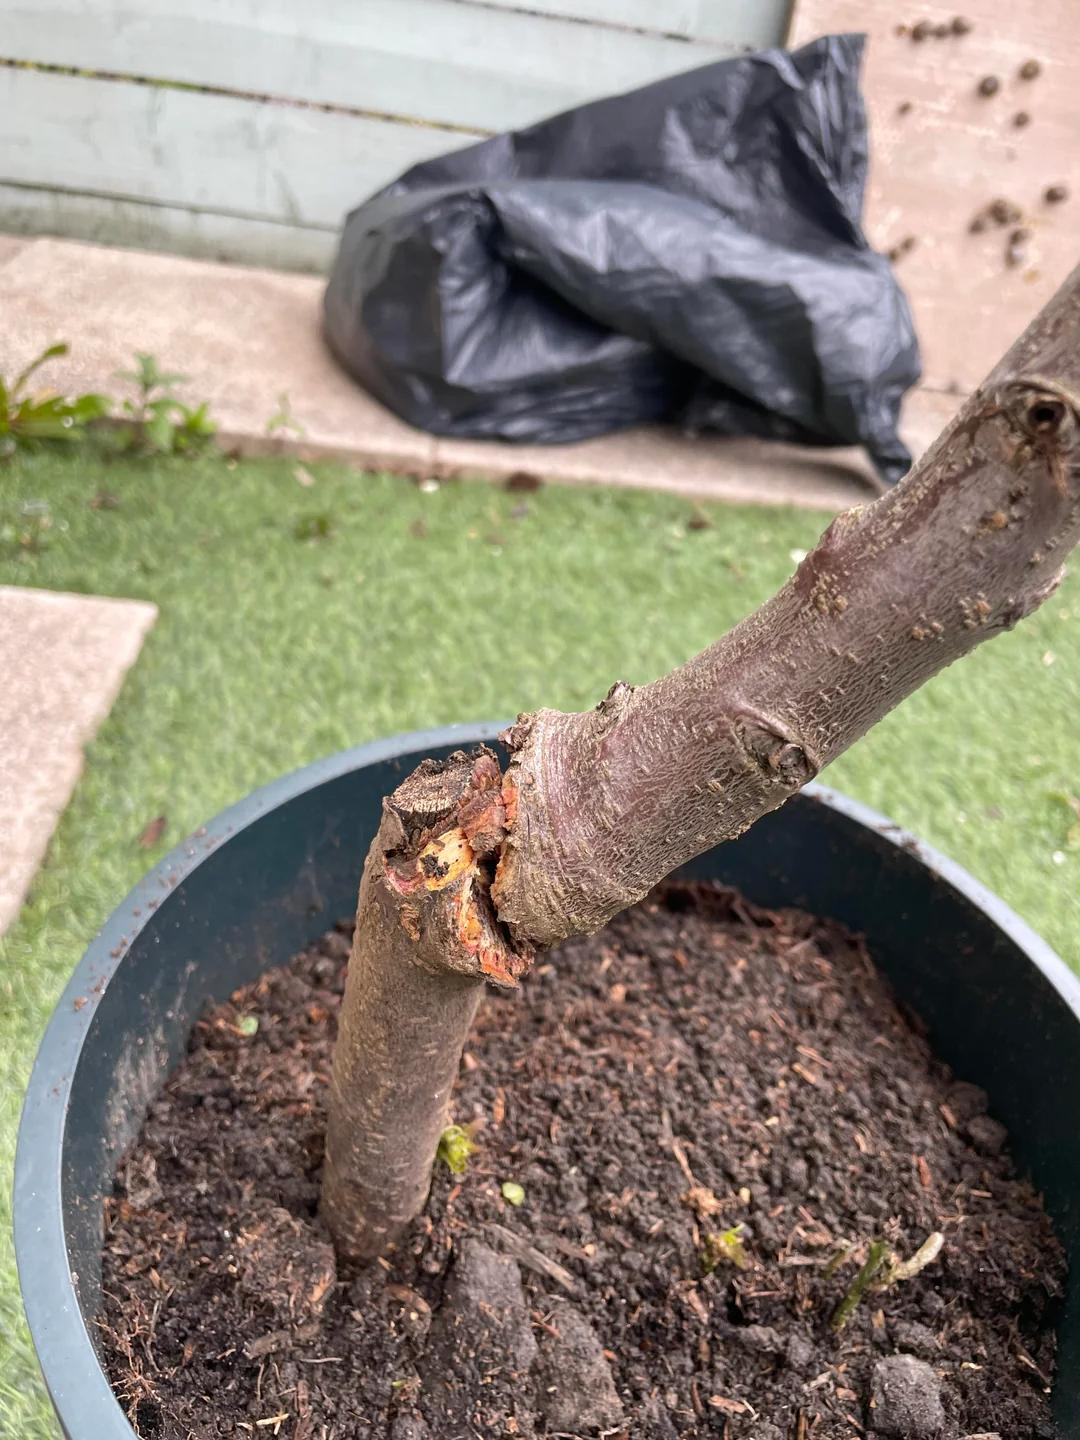mechanical damage: (455, 864, 516, 982), (417, 827, 472, 888)
